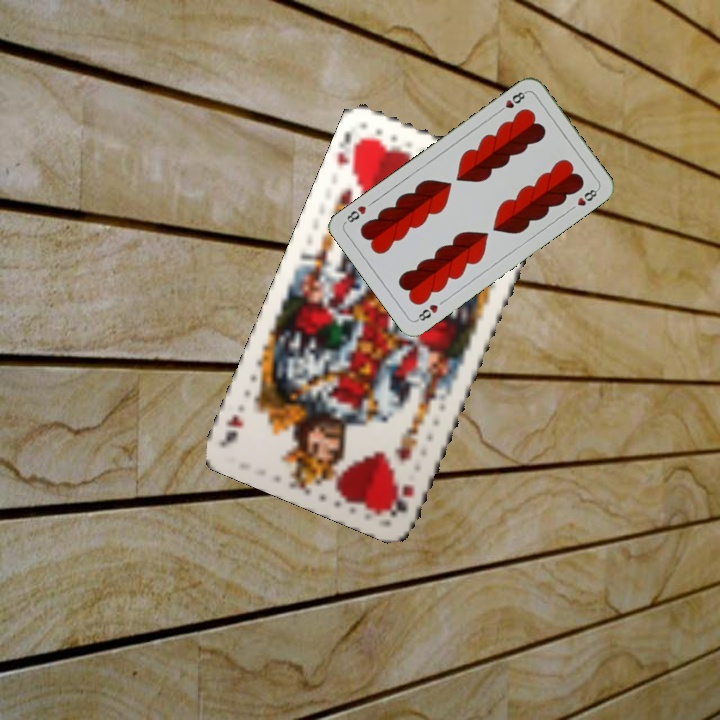H8: (494, 87, 529, 116), (412, 300, 441, 324)
HK: (332, 125, 369, 179), (385, 479, 418, 518)
